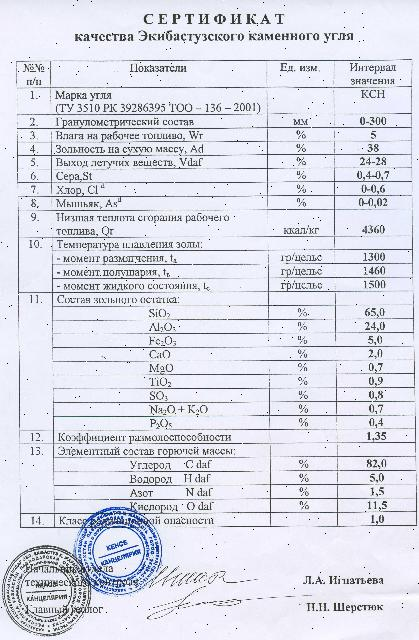stamp: (3, 546, 89, 636), (77, 507, 161, 598)
